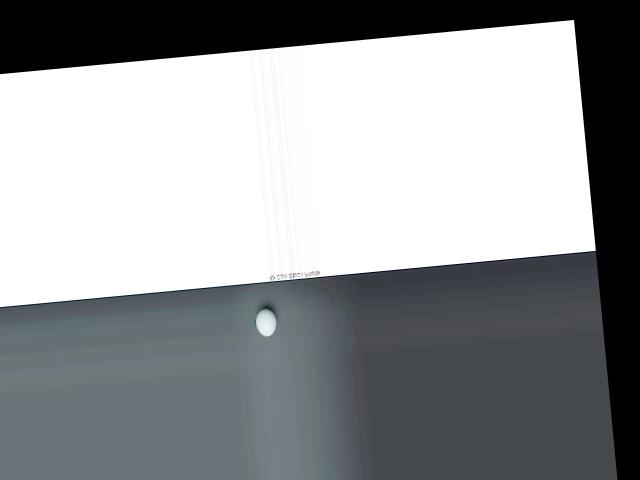egg: (254, 307, 278, 337)
